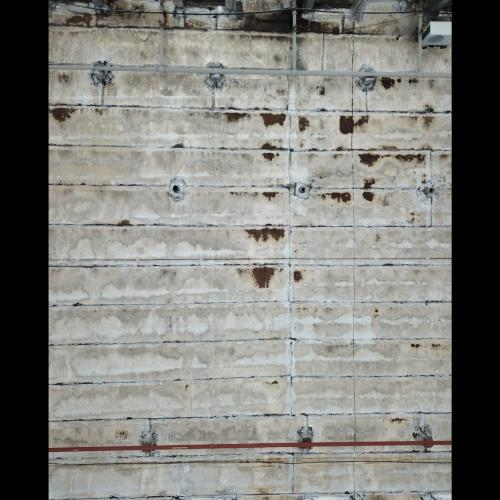conde: (418, 18, 453, 51)
